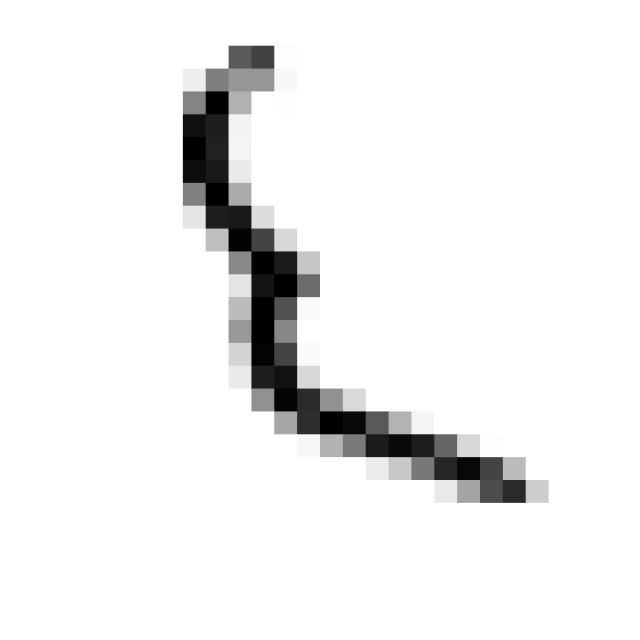4 -four-: (165, 23, 554, 515)
